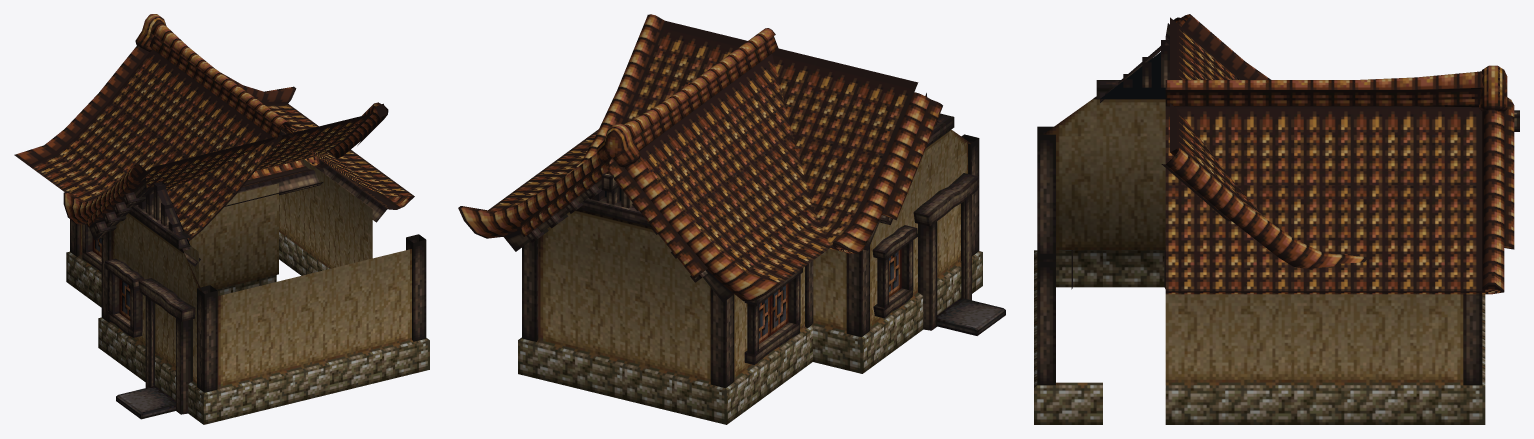
The model's file is EnvBdgMD_Desert_A_Outdoor_SentryBox_A.FBX.
The picture shows the model from 3 angles, left to right: view 1: azimuth 30°, elevation 25°; view 2: azimuth 150°, elevation 25°; view 3: azimuth 270°, elevation 25°; orthographic projection. The views are drawn at different scales.
Parts seen in each view (by area): view 1: EnvBdgMD_Desert_A_Outdoor_SentryBox_A; view 2: EnvBdgMD_Desert_A_Outdoor_SentryBox_A; view 3: EnvBdgMD_Desert_A_Outdoor_SentryBox_A.
Boxes of the visible parts, left/top/right/bottom form: EnvBdgMD_Desert_A_Outdoor_SentryBox_A: left=14, top=14, right=429, bottom=424; EnvBdgMD_Desert_A_Outdoor_SentryBox_A: left=458, top=14, right=1005, bottom=424; EnvBdgMD_Desert_A_Outdoor_SentryBox_A: left=1034, top=14, right=1519, bottom=424.
Size of the model in its own units: 727 by 532 by 775.
